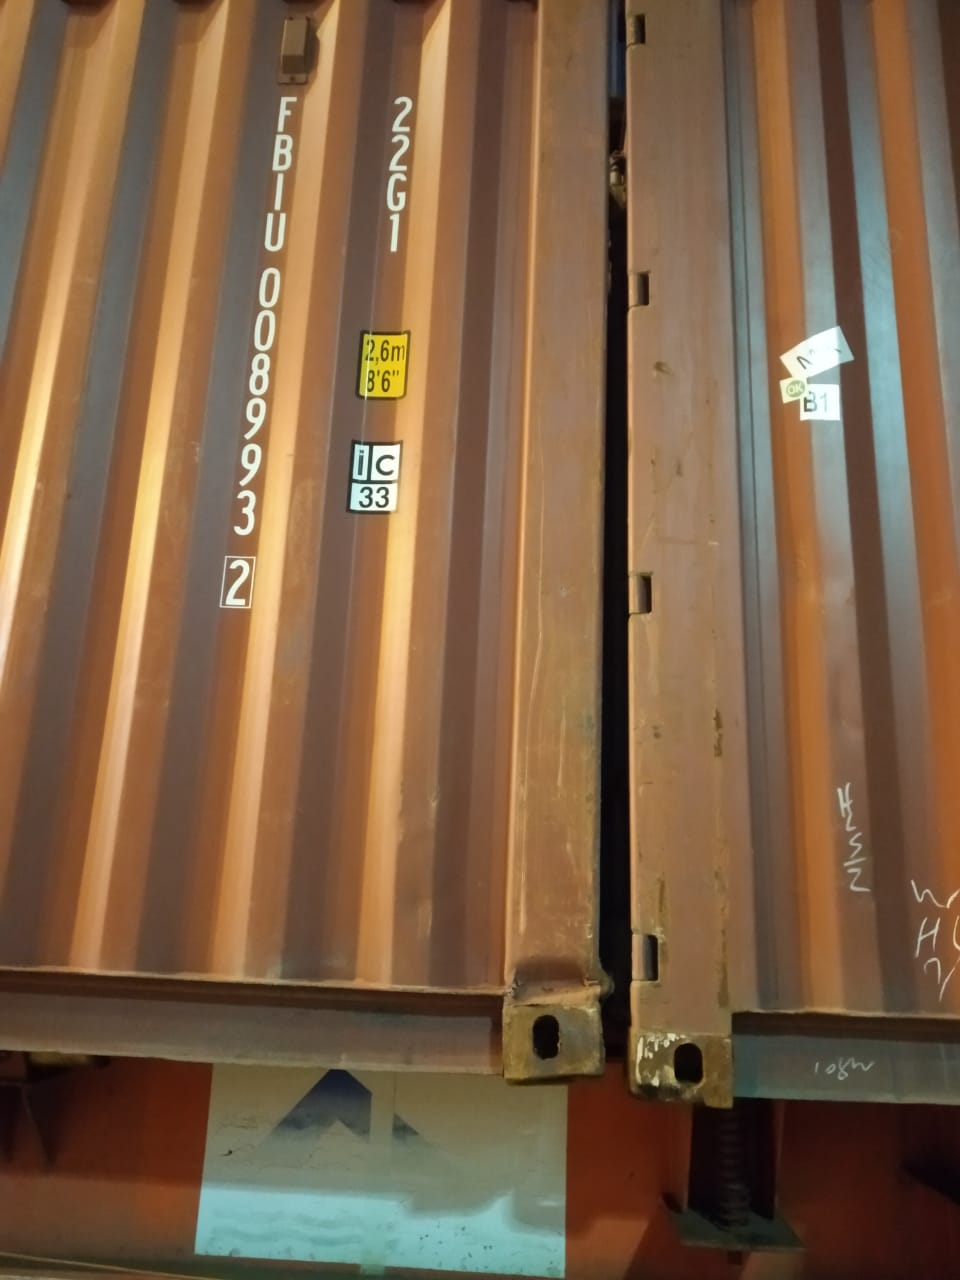moderate: (391, 831, 635, 1052)
